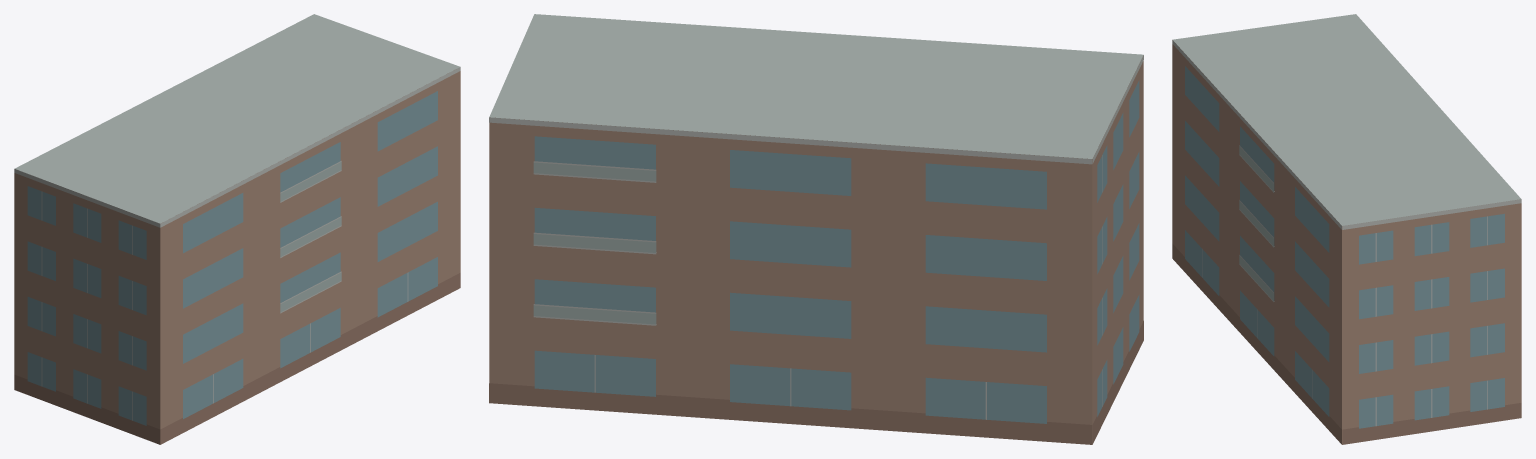
File: survey-upis-32967990.glb
3 views of the same model, side by side, from view 1: azimuth 30°, elevation 25°; view 2: azimuth 150°, elevation 25°; view 3: azimuth 270°, elevation 25° (orthographic). The views are drawn at different scales.
Visible parts, largest first — view 1: survey-upis-32967990.tmp; view 2: survey-upis-32967990.tmp; view 3: survey-upis-32967990.tmp.
Boxes of the visible parts, <box> form: survey-upis-32967990.tmp: <box>14,14,460,444</box>; survey-upis-32967990.tmp: <box>489,14,1143,444</box>; survey-upis-32967990.tmp: <box>1172,14,1521,444</box>.
Size of the model in its own units: 27.32 by 13.15 by 19.02.
